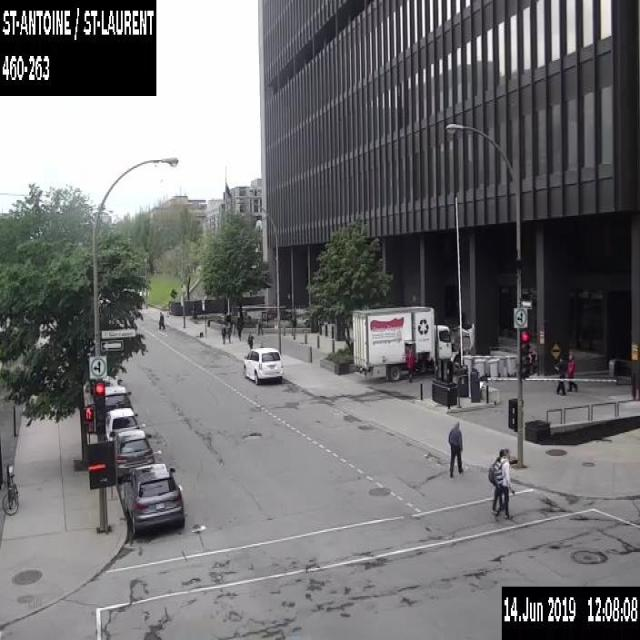pedestrian: (493, 447, 513, 521), (487, 448, 504, 513), (447, 419, 463, 476), (554, 355, 566, 395), (566, 352, 577, 390), (405, 346, 413, 381), (158, 310, 165, 328), (236, 321, 242, 340), (226, 324, 232, 342), (247, 333, 254, 348), (221, 324, 226, 343)
vehicle: (352, 304, 474, 381), (123, 462, 184, 534), (113, 428, 154, 483), (243, 346, 282, 384), (104, 406, 140, 441), (104, 384, 133, 419), (102, 373, 122, 387)
